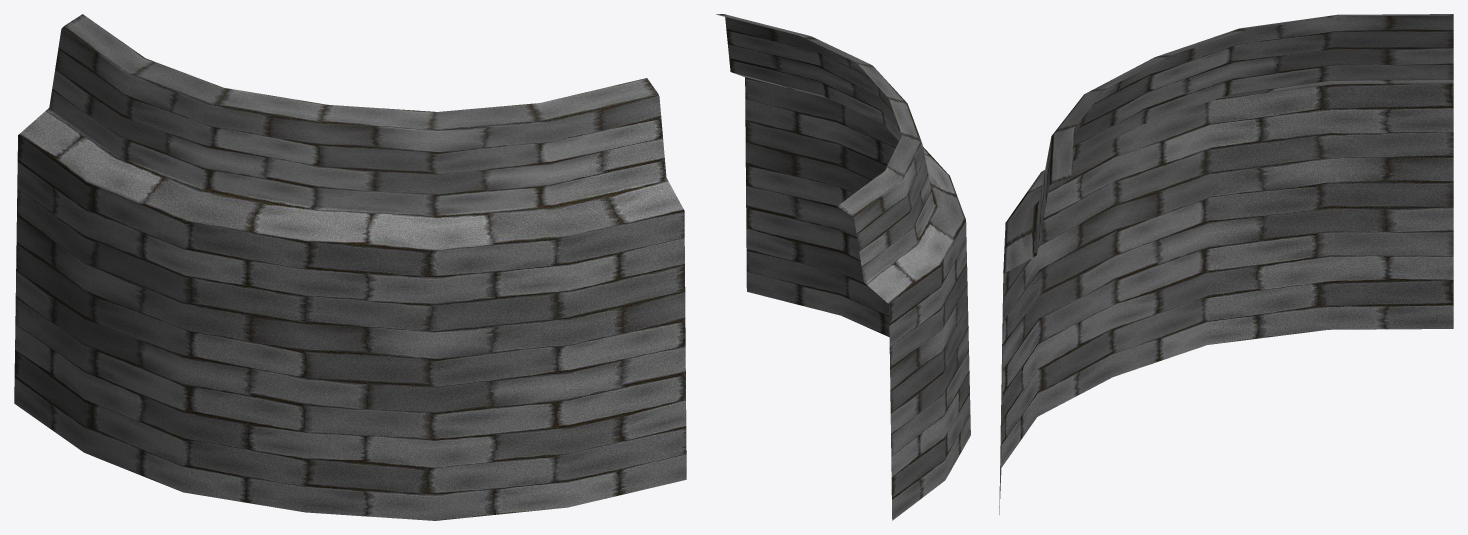
The model's file is Castle_Mod_TowerBase.fbx.
3 renders of one model, left to right at view 1: azimuth 30°, elevation 25°; view 2: azimuth 150°, elevation 25°; view 3: azimuth 270°, elevation 25°, orthographic. The views are drawn at different scales.
Parts seen in each view (by area): view 1: Castle_Mod_TowerBase; view 2: Castle_Mod_TowerBase; view 3: Castle_Mod_TowerBase.
Boxes of the visible parts, x1,y1,x2,y2 form: Castle_Mod_TowerBase: (14,14,686,520); Castle_Mod_TowerBase: (716,14,970,520); Castle_Mod_TowerBase: (999,14,1453,514).
Size of the model in its own units: 6.28 by 5.25 by 6.28.
Materials: 1 (1 with a texture image).
